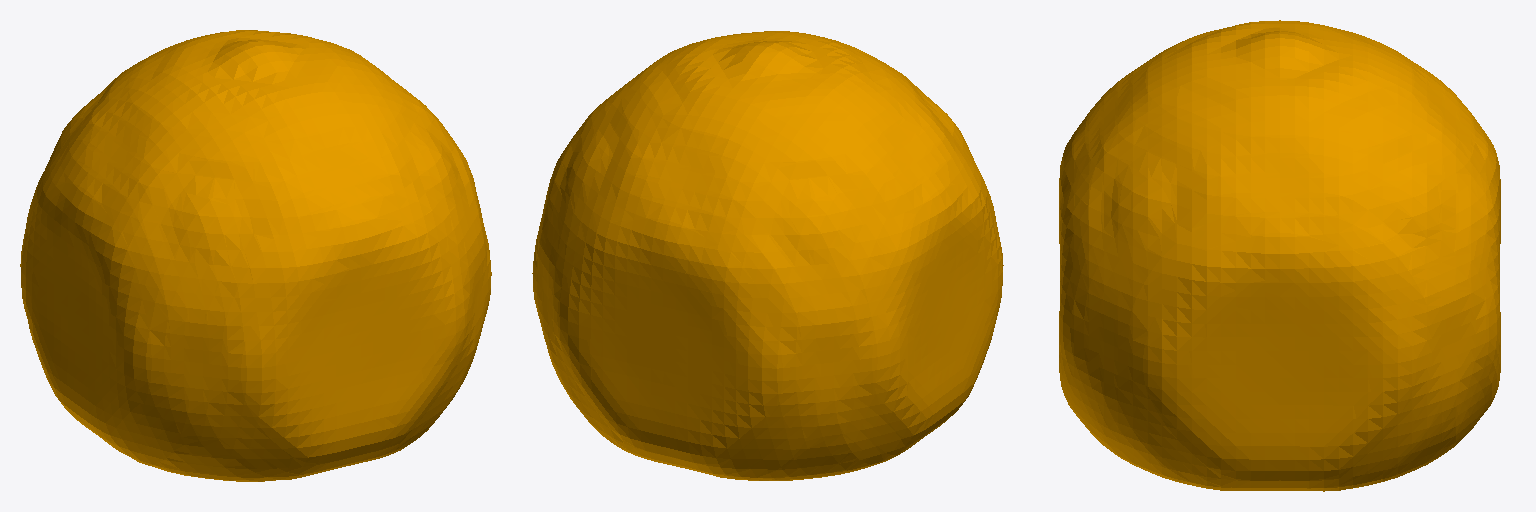
URDF robot description (E08_2):
<?xml version="1.0"?>
<robot name="E08_2">
  <link name="base_link">
    <inertial>
      <mass value="0.12492" />
      <origin xyz="0 0 0" />
      <inertia  ixx="0.0002" ixy="0.0"  ixz="0.0"  iyy="0.0002"  iyz="0.0" izz="0.0002" />
    </inertial>
    <visual>
      <geometry>
        <mesh filename="../../../meshes/egad/train/E08_2.obj" />
      </geometry>
    </visual>
    <collision>
      <geometry>
        <mesh filename="../../../meshes/egad/train/E08_2.obj" />
      </geometry>
    </collision>
  </link>
</robot>

--- Facts derived from the render (not from the file) ---
Views: 3 orthographic renders of the robot side by side, from view 1: azimuth 30°, elevation 25°; view 2: azimuth 150°, elevation 25°; view 3: azimuth 270°, elevation 25°.
Model E08_2 with 1 links and 0 joints (none), rooted at base_link, posed all joints at 0.
Visible links, largest first — view 1: base_link; view 2: base_link; view 3: base_link.
Link boxes in pixels (box(x1,y1,x2,y2)): base_link: box(20, 30, 491, 481); base_link: box(532, 31, 1003, 480); base_link: box(1059, 20, 1500, 491).
Size in the robot's own frame: 0.0623 by 0.0623 by 0.06 metres.
Meshes: 1 distinct files referenced, 1 mesh visuals loaded (1 OBJ).